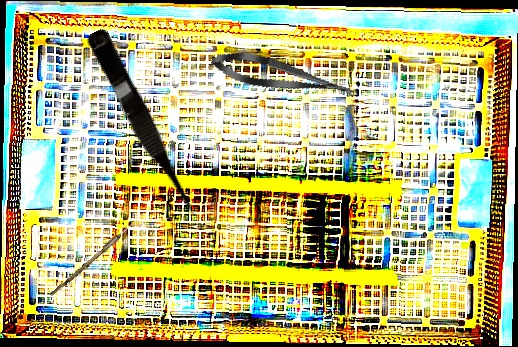Micro Scissor: (80, 26, 204, 226), (208, 44, 358, 109)
Surgical Spoon: (49, 211, 146, 299)
